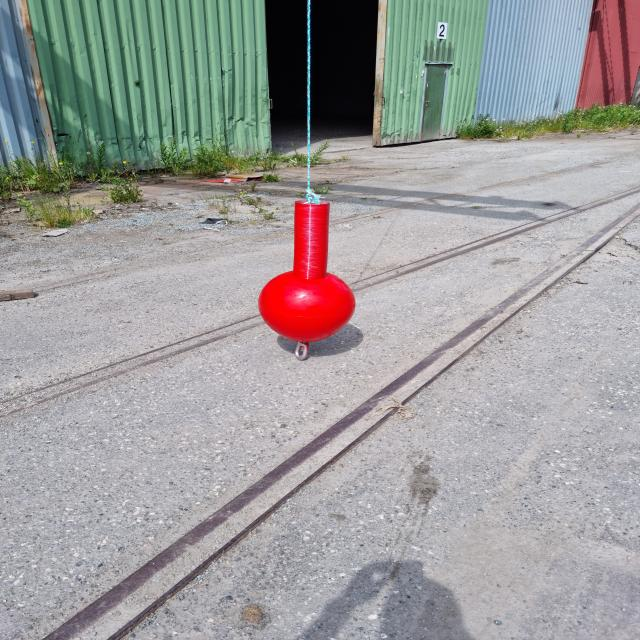red: (259, 202, 357, 343)
